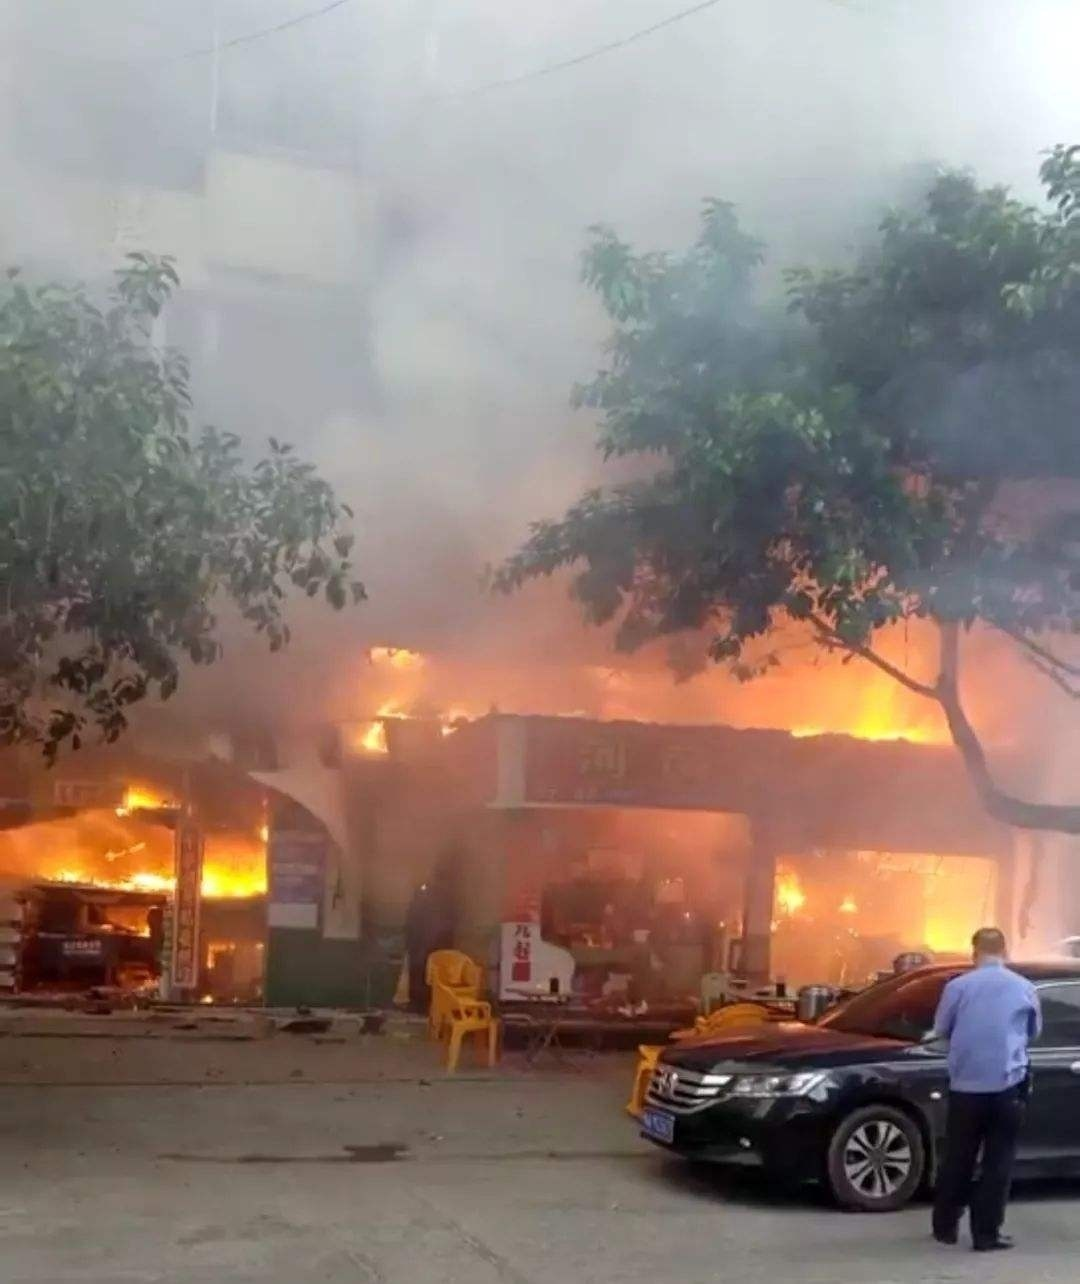fire: (42, 782, 267, 910), (763, 843, 986, 956), (350, 640, 475, 753), (787, 677, 940, 750)
